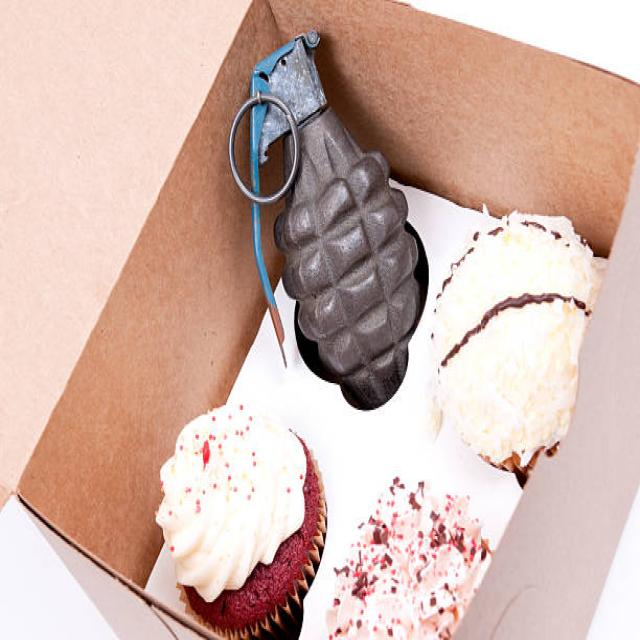grenade: (231, 30, 427, 414)
